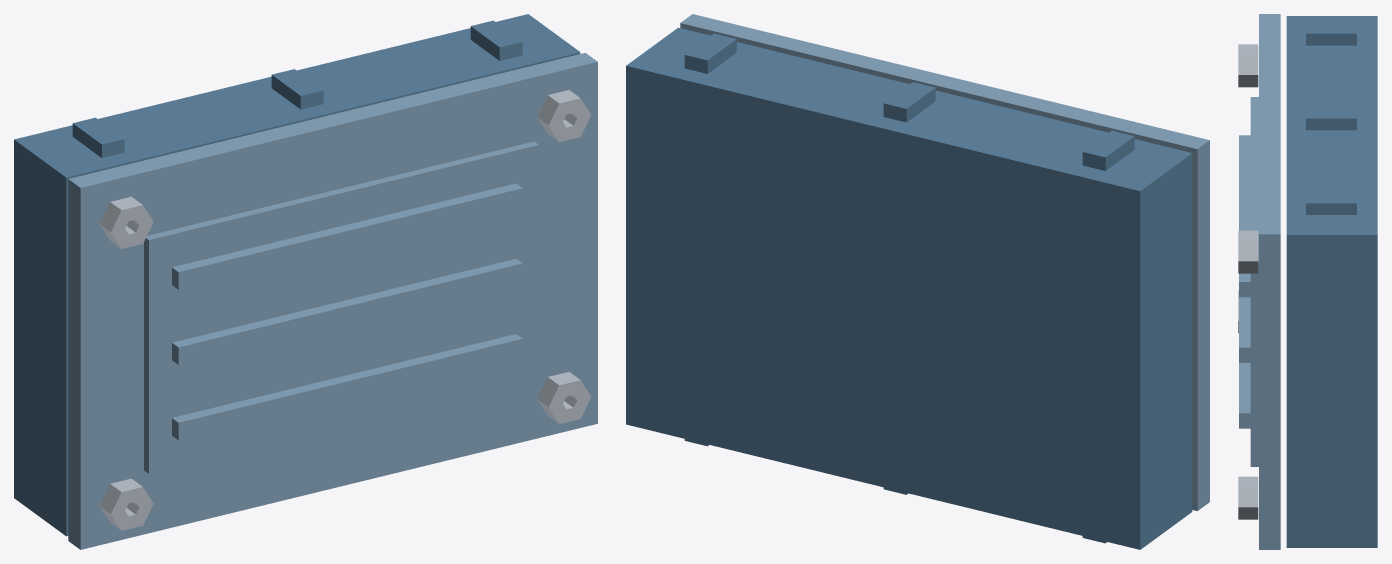
Rendered from MaintenanceGearbox.glb.
The picture shows the model from 3 angles, left to right: view 1: azimuth 30°, elevation 25°; view 2: azimuth 150°, elevation 25°; view 3: azimuth 270°, elevation 25°; orthographic projection. The views are drawn at different scales.
Parts seen in each view (by area): view 1: cover, housing, bolt_fr, bolt_br, bolt_bl, bolt_fl; view 2: housing, cover; view 3: housing, cover, bolt_fr, bolt_bl, bolt_br.
Part boxes in pixels (box(x1,y1,x2,y2)): cover: box(68, 53, 597, 549); housing: box(14, 14, 580, 536); bolt_fr: box(537, 372, 591, 423); bolt_br: box(537, 90, 591, 142); bolt_bl: box(99, 196, 153, 248); bolt_fl: box(99, 478, 153, 530); housing: box(626, 27, 1192, 549); cover: box(680, 14, 1209, 510); housing: box(1286, 16, 1377, 547); cover: box(1239, 14, 1280, 549); bolt_fr: box(1238, 476, 1258, 519); bolt_bl: box(1238, 44, 1258, 87); bolt_br: box(1238, 230, 1258, 273).
Bounding box in the file's own units: 3.38 × 2.41 × 0.905.
